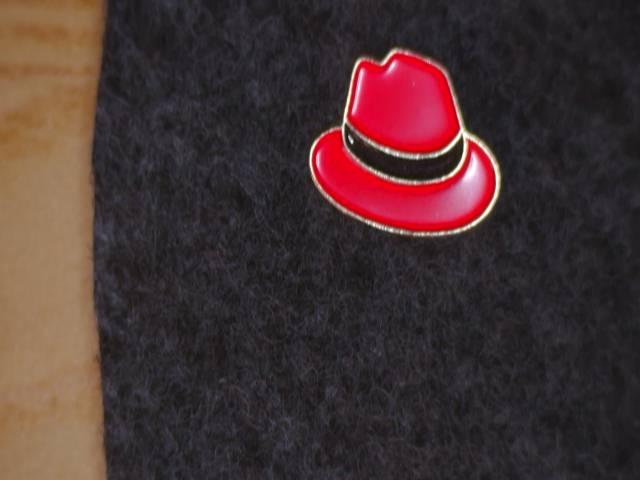Red-Hat: (278, 21, 531, 271)
